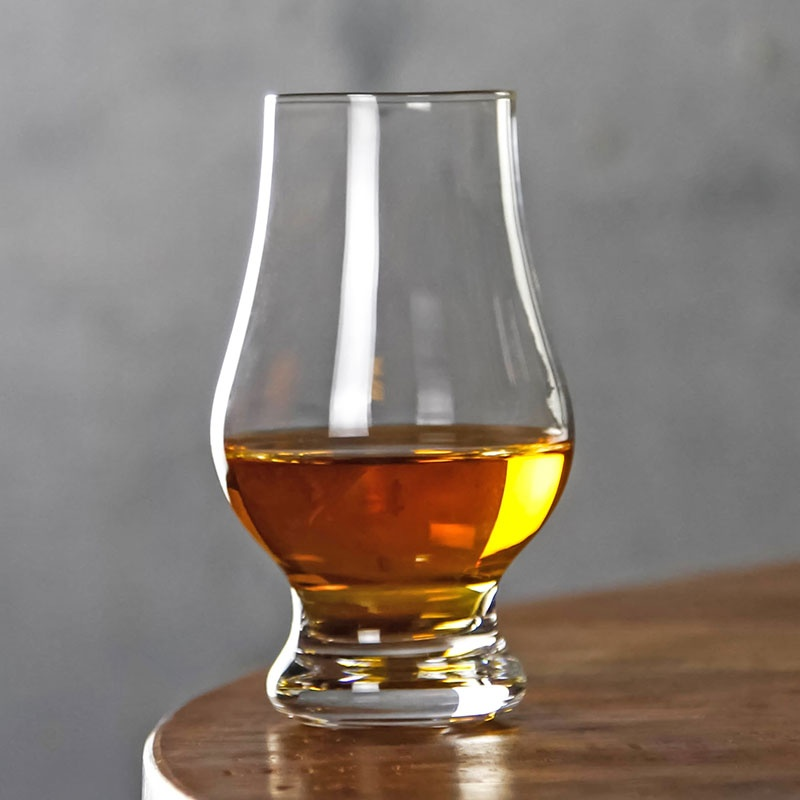whiskey: (228, 91, 575, 738)
